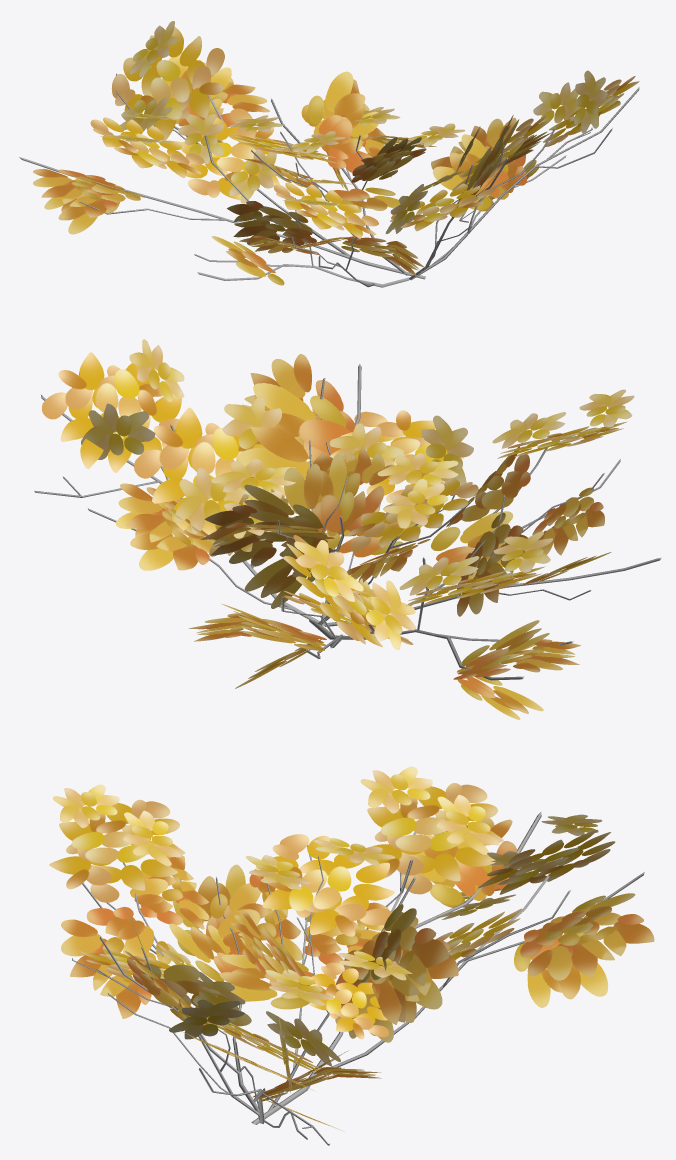
Rendered from Bush.fbx.
3 renders of one model, top to bottom at view 1: azimuth 30°, elevation 25°; view 2: azimuth 150°, elevation 25°; view 3: azimuth 270°, elevation 25°, orthographic. The views are drawn at different scales.
Parts seen in each view (by area): view 1: LichtMesh, NormaalMesh, BushMesh, NormaalMesh2; view 2: LichtMesh, NormaalMesh, BushMesh, NormaalMesh1; view 3: LichtMesh, NormaalMesh, BushMesh, NormaalMesh1, NormaalMesh2.
Part boxes in pixels (<box>): LichtMesh: <box>90,21,639,238</box>; NormaalMesh: <box>33,53,551,276</box>; BushMesh: <box>19,73,639,287</box>; NormaalMesh2: <box>211,236,284,285</box>; LichtMesh: <box>42,339,634,649</box>; NormaalMesh: <box>115,354,604,719</box>; BushMesh: <box>34,364,661,680</box>; NormaalMesh1: <box>461,620,549,670</box>; LichtMesh: <box>49,766,615,1092</box>; NormaalMesh: <box>61,818,654,1131</box>; BushMesh: <box>72,812,644,1145</box>; NormaalMesh1: <box>401,831,491,905</box>; NormaalMesh2: <box>173,864,245,955</box>.
Bounding box in the file's own units: 57.36 × 19.99 × 48.31.
